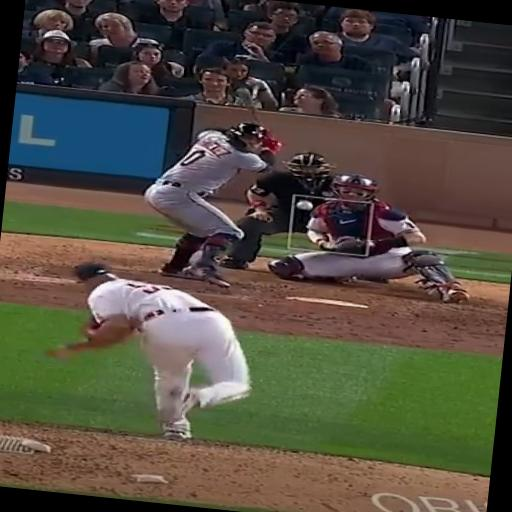bat: (235, 89, 275, 142)
